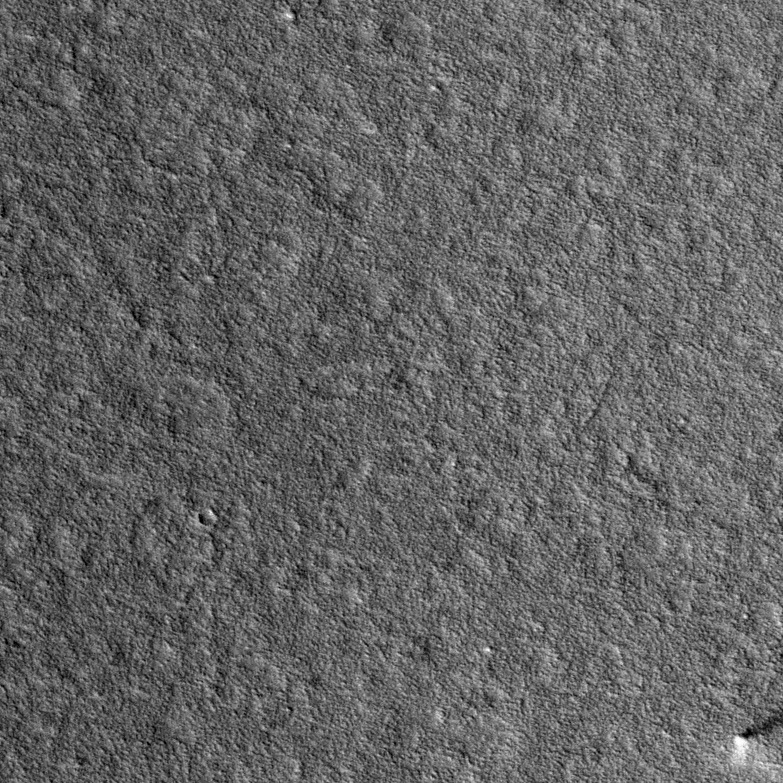dust_devil: (730, 705, 783, 768)
